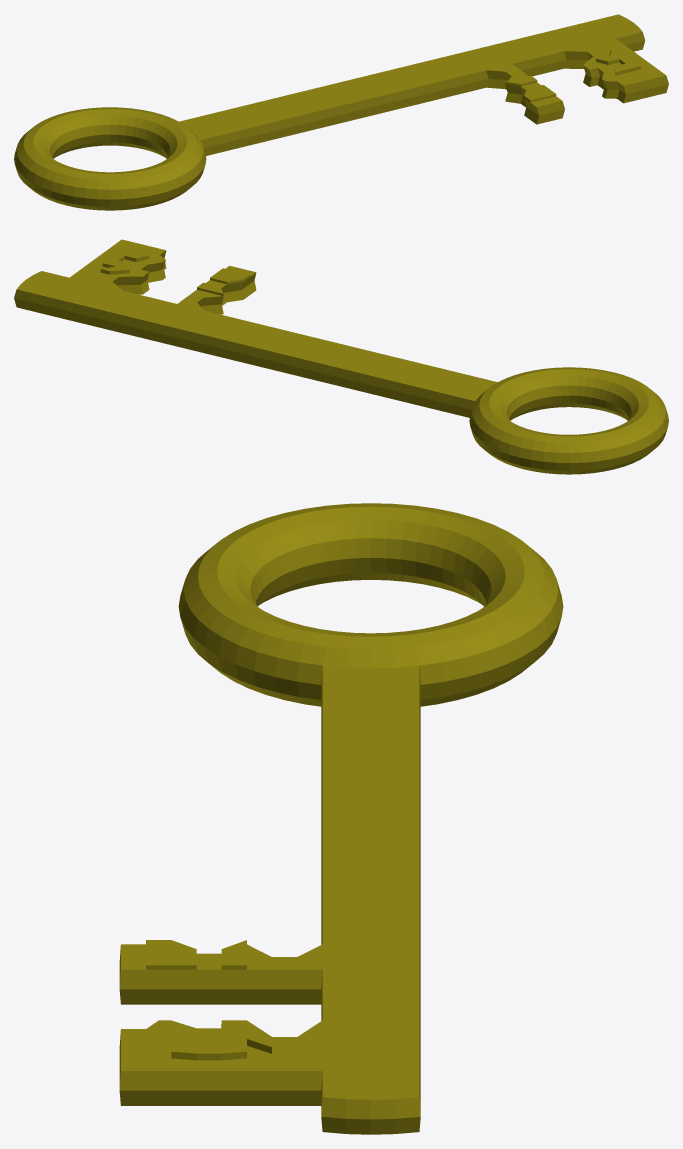
Rendered from key.fbx.
3 views of the same model, one above another, from view 1: azimuth 30°, elevation 25°; view 2: azimuth 150°, elevation 25°; view 3: azimuth 270°, elevation 25° (orthographic). The views are drawn at different scales.
Visible parts, largest first — view 1: Torus; view 2: Torus; view 3: Torus.
Boxes of the visible parts, left/top/right/bottom form: Torus: left=14, top=14, right=668, bottom=210; Torus: left=14, top=239, right=668, bottom=474; Torus: left=119, top=503, right=563, bottom=1134.
Size of the model in its own units: 914 by 50 by 288.
